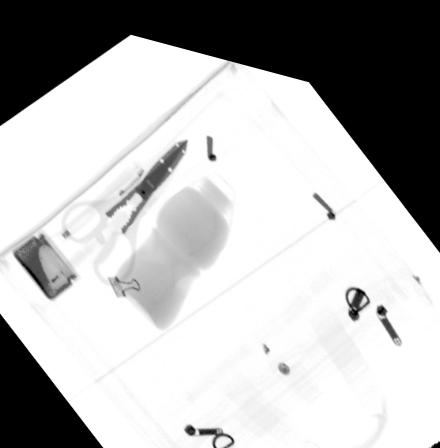Scissors: (61, 128, 187, 278)
